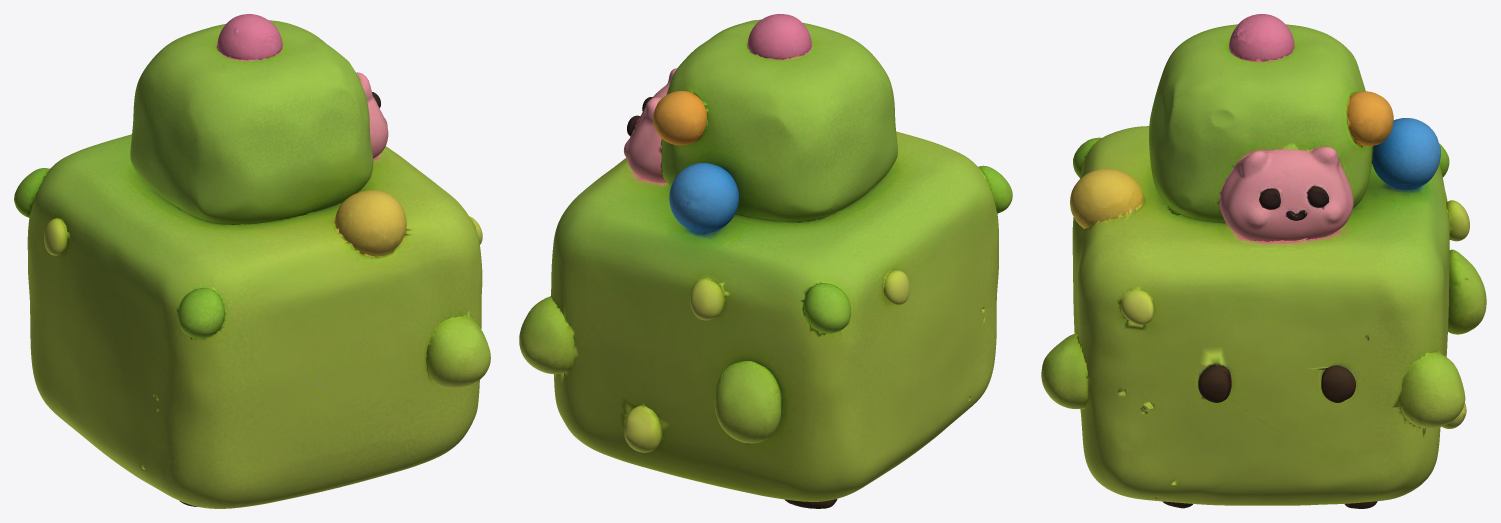
The model's file is env_nest_monster_05.glb.
3 renders of one model, left to right at view 1: azimuth 30°, elevation 25°; view 2: azimuth 150°, elevation 25°; view 3: azimuth 270°, elevation 25°, orthographic. The views are drawn at different scales.
Parts seen in each view (by area): view 1: tripo_node_bd23e011-6422-414d-864d-089eef97b34d; view 2: tripo_node_bd23e011-6422-414d-864d-089eef97b34d; view 3: tripo_node_bd23e011-6422-414d-864d-089eef97b34d.
Part boxes in pixels (x1=…): tripo_node_bd23e011-6422-414d-864d-089eef97b34d: x1=14, y1=14, x2=490, y2=508; tripo_node_bd23e011-6422-414d-864d-089eef97b34d: x1=519, y1=14, x2=1012, y2=508; tripo_node_bd23e011-6422-414d-864d-089eef97b34d: x1=1041, y1=14, x2=1486, y2=508.
Bounding box in the file's own units: 0.9274 × 1.1 × 1.02.
Materials: 1 (1 with a texture image).
